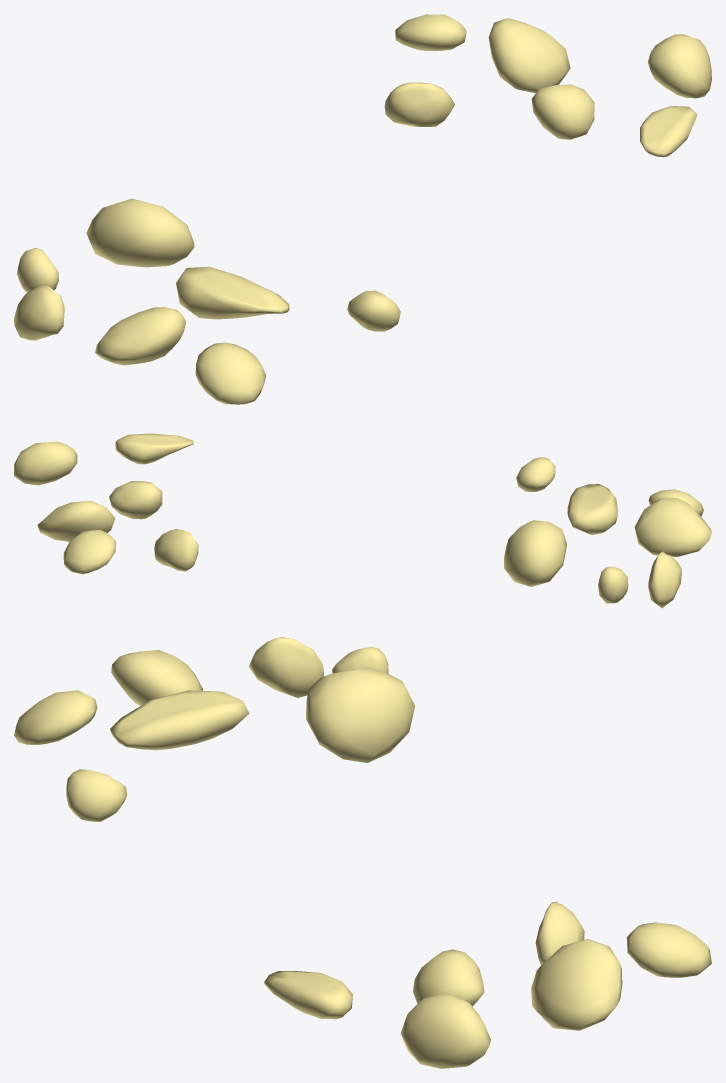
Rendered from Donutsprinkle_C_01.fbx.
3 renders of one model, top to bottom at view 1: azimuth 30°, elevation 25°; view 2: azimuth 150°, elevation 25°; view 3: azimuth 270°, elevation 25°, orthographic. The views are drawn at different scales.
Parts seen in each view (by area): view 1: Donutsprinkle_C_01_LOD0; view 2: Donutsprinkle_C_01_LOD0; view 3: Donutsprinkle_C_01_LOD0.
Boxes of the visible parts, x1,y1,x2,y2 form: Donutsprinkle_C_01_LOD0: (14, 14, 711, 404); Donutsprinkle_C_01_LOD0: (14, 433, 711, 608); Donutsprinkle_C_01_LOD0: (14, 637, 711, 1068).
Size of what is drawn, in the model's own units: 507 by 55.65 by 358.
